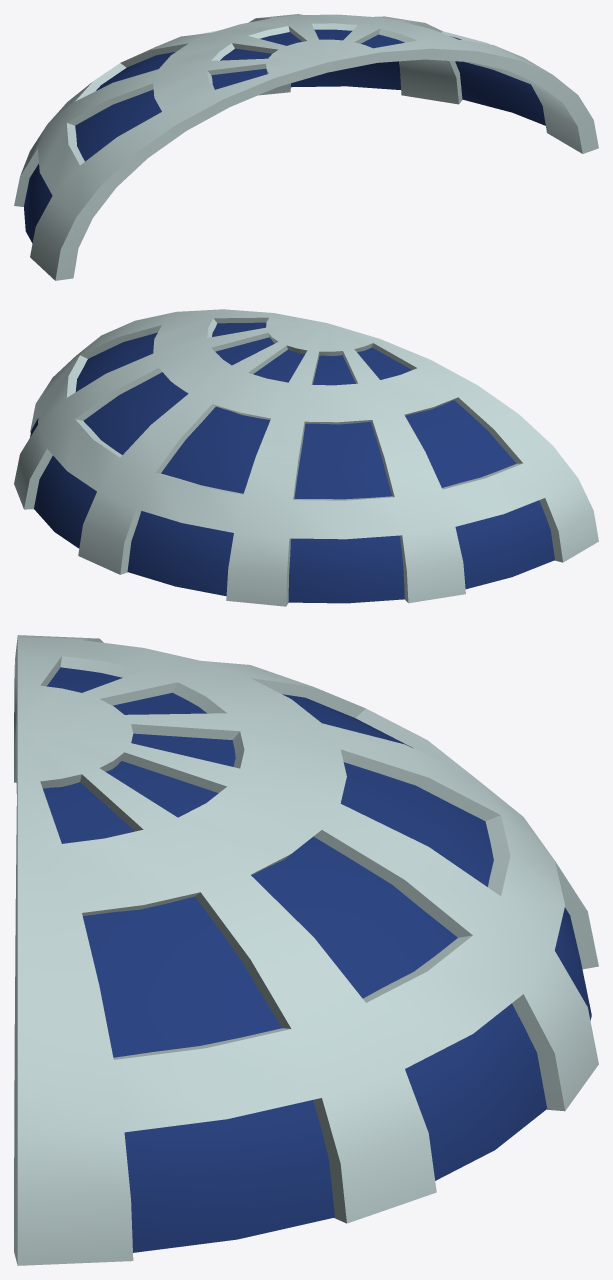
File: ceiling_round.fbx
The picture shows the model from 3 angles, top to bottom: view 1: azimuth 30°, elevation 25°; view 2: azimuth 150°, elevation 25°; view 3: azimuth 270°, elevation 25°; orthographic projection. The views are drawn at different scales.
Parts seen in each view (by area): view 1: Sphere.001, Sphere; view 2: Sphere.001, Sphere; view 3: Sphere.001, Sphere.
Boxes of the visible parts, x1,y1,x2,y2 form: Sphere.001: (14, 14, 598, 280); Sphere: (24, 29, 545, 243); Sphere.001: (14, 309, 598, 606); Sphere: (30, 322, 554, 603); Sphere.001: (14, 635, 598, 1265); Sphere: (43, 667, 591, 1252).
Size of the model in its own units: 770 by 207 by 380.
